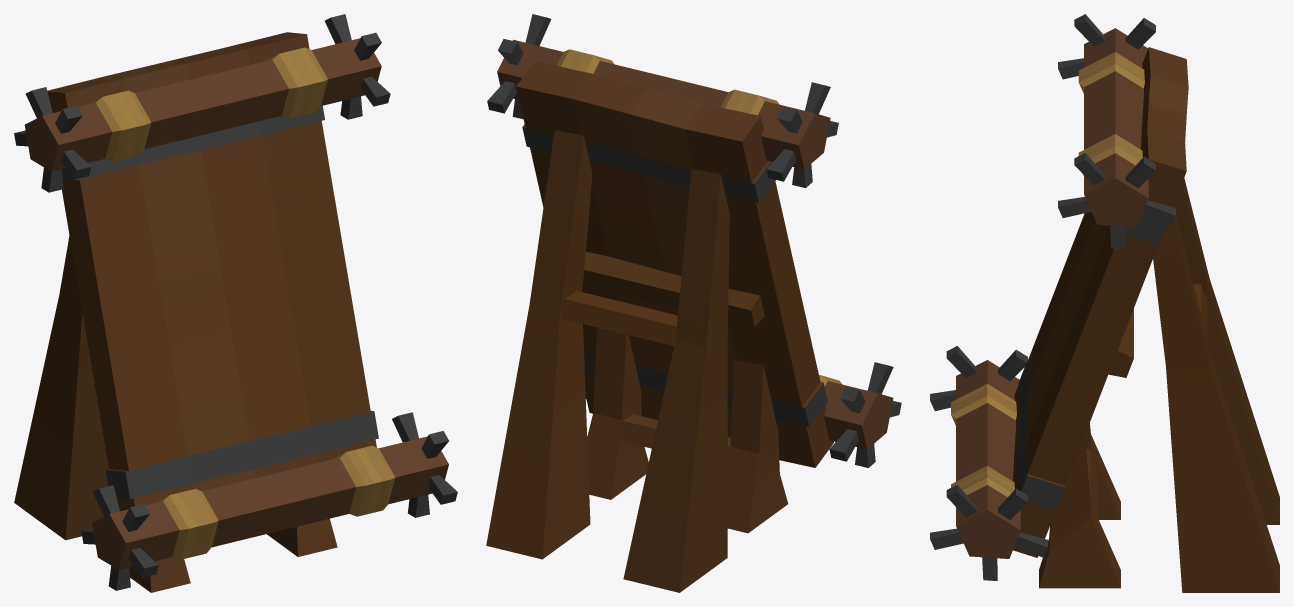
File: Rack.fbx
3 renders of one model, left to right at view 1: azimuth 30°, elevation 25°; view 2: azimuth 150°, elevation 25°; view 3: azimuth 270°, elevation 25°, orthographic. The views are drawn at different scales.
Parts seen in each view (by area): view 1: Rack; view 2: Rack; view 3: Rack.
Part boxes in pixels (<box>): Rack: <box>14,14,457,592</box>; Rack: <box>486,14,901,592</box>; Rack: <box>930,14,1279,592</box>.
Bounding box in the file's own units: 168 × 239 × 165.
